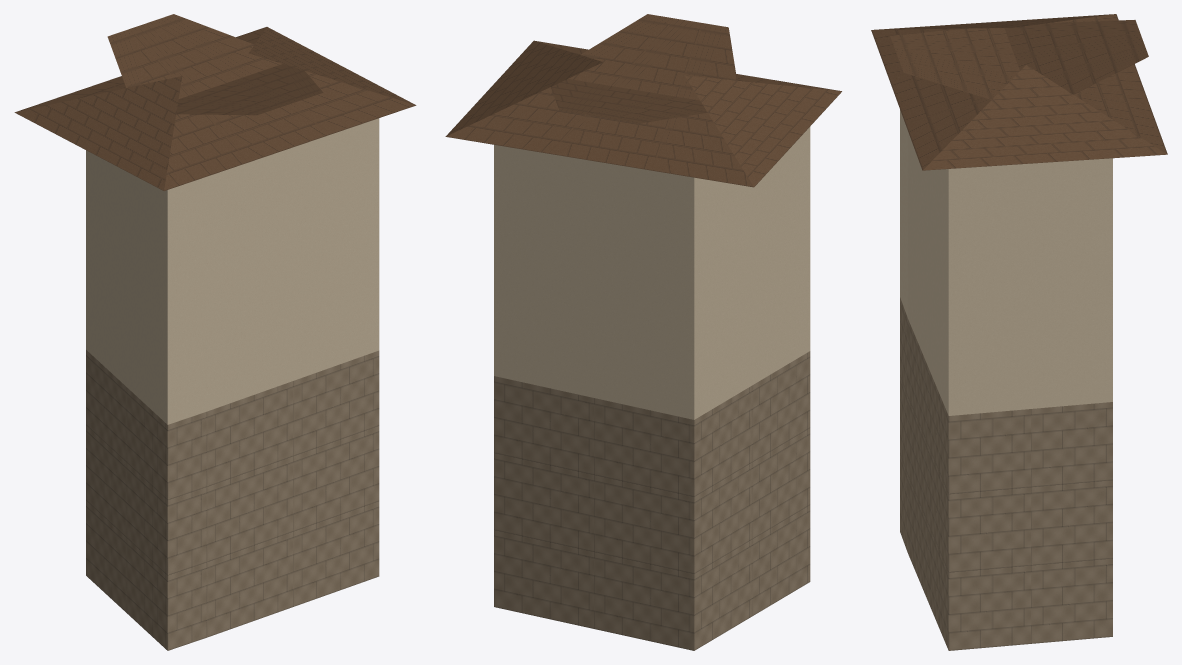
The model's file is bld_c21_45_388.gltf.
3 views of the same model, side by side, from view 1: azimuth 30°, elevation 25°; view 2: azimuth 150°, elevation 25°; view 3: azimuth 270°, elevation 25° (orthographic). The views are drawn at different scales.
Parts seen in each view (by area): view 1: bld_c21_45_388; view 2: bld_c21_45_388; view 3: bld_c21_45_388.
Boxes of the visible parts, x1,y1,x2,y2 form: bld_c21_45_388: [14, 14, 416, 650]; bld_c21_45_388: [445, 14, 841, 650]; bld_c21_45_388: [871, 14, 1167, 650].
Size of the model in its own units: 7.3 by 11.7 by 5.84.
Materials: 3 (3 with a texture image).
